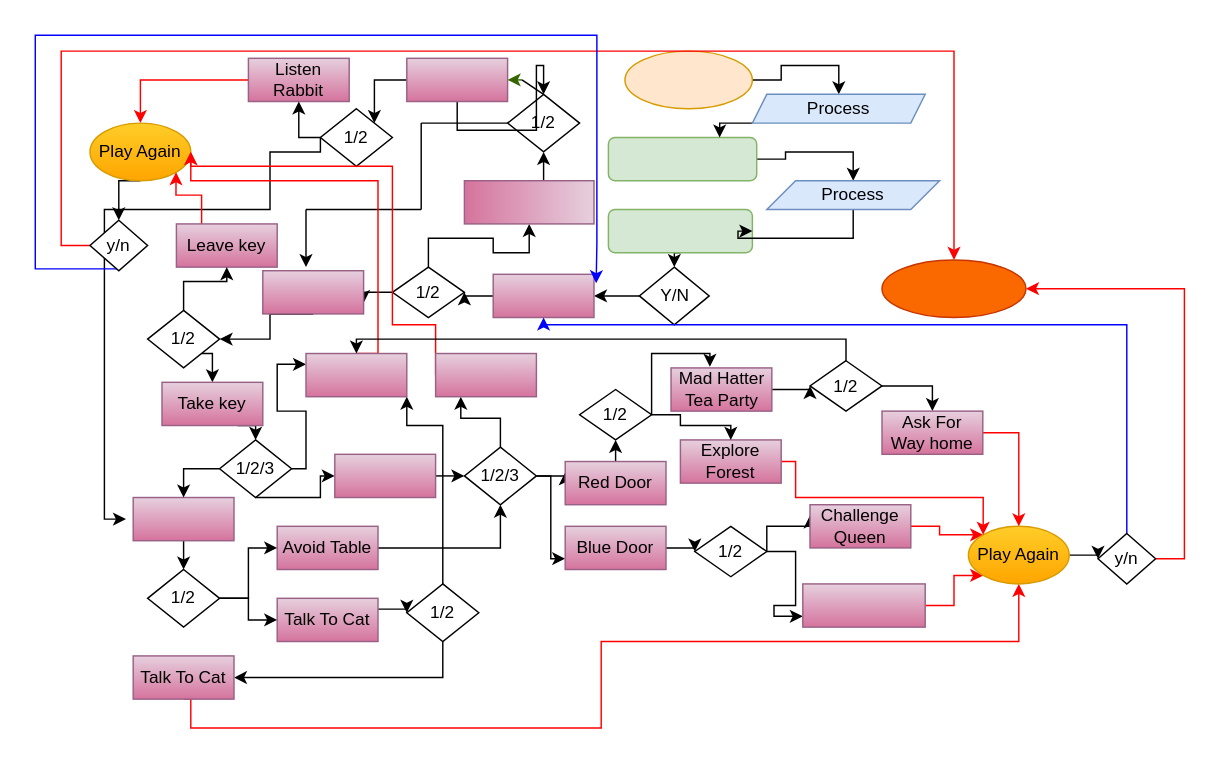
Image size: 1221x765. Some labels were removed from this diagram. The shapes that lost their labels are listed below. From the top down, each one's centre as x and y in pixels, then its label:
pixel 456 79: 2 Call For Help
pixel 688 79: Start
pixel 682 158: Enter the Name
pixel 528 201: Explore Tunnel
pixel 679 230: Welcome
pixel 312 291: Drink Me
pixel 543 295: Intro
pixel 953 288: End of the Game
pixel 356 374: Look For Rabbit
pixel 485 374: Green Door
pixel 384 475: Rest in Garden
pixel 183 518: Explore Garen
pixel 863 604: Ask Queen For Way Home
